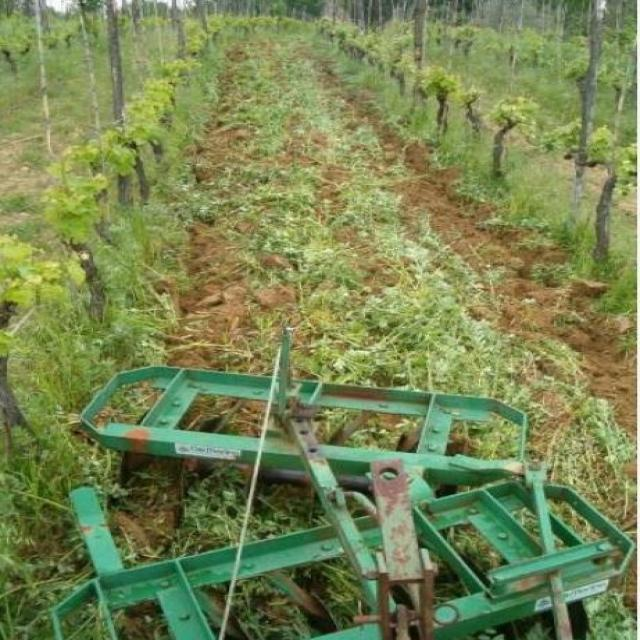row: (29, 30, 631, 637)
